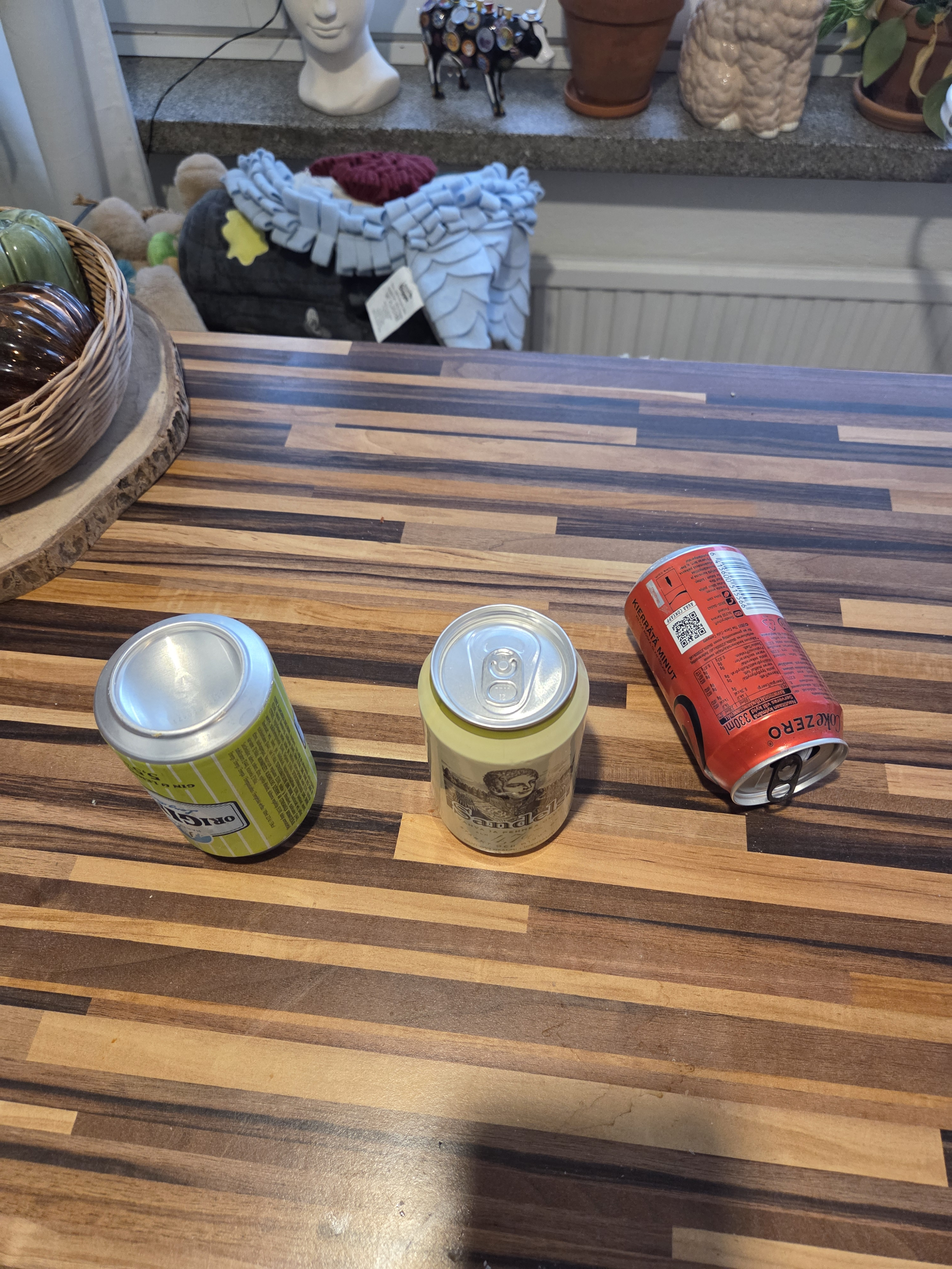Pantburk: (93, 611, 319, 858), (417, 603, 590, 856), (600, 590, 760, 859)
